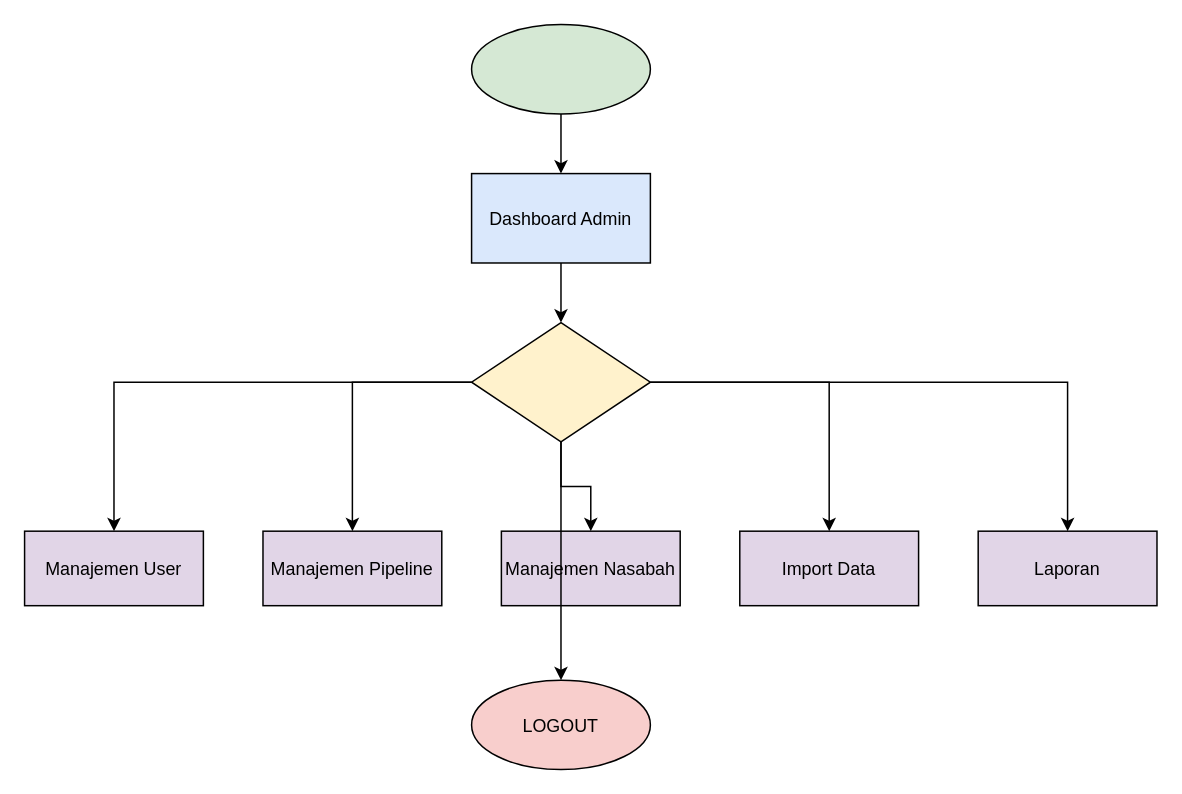
The diagram is 1182 pixels wide and 794 high, and some of its shapes have lost their labels. The shapes that lost their labels are listed below. From the top down, each one's box as (x1, y1, x2, y2) in pixels, then its label:
(470, 23, 650, 114): ADMIN LOGIN
(470, 321, 650, 442): Pilih Menu
